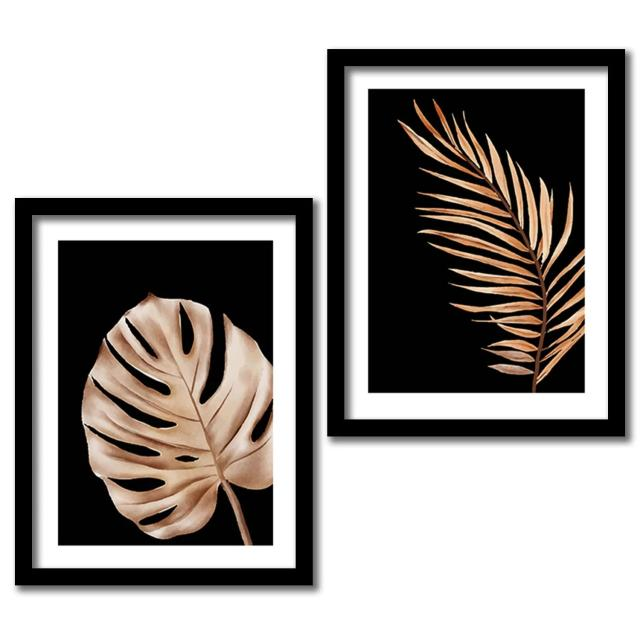painting: (14, 198, 313, 586), (327, 50, 626, 437)
